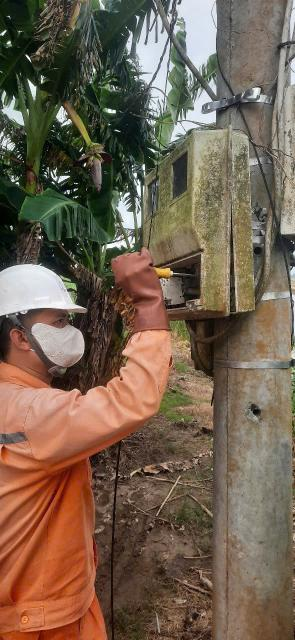gloves: (101, 248, 186, 336)
helmet: (0, 247, 84, 329)
